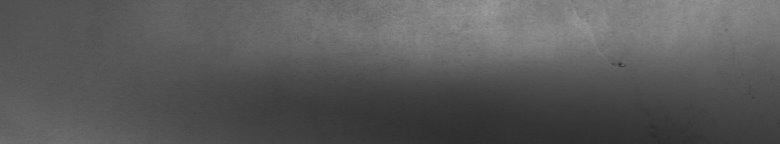fi: (611, 61, 626, 69)
